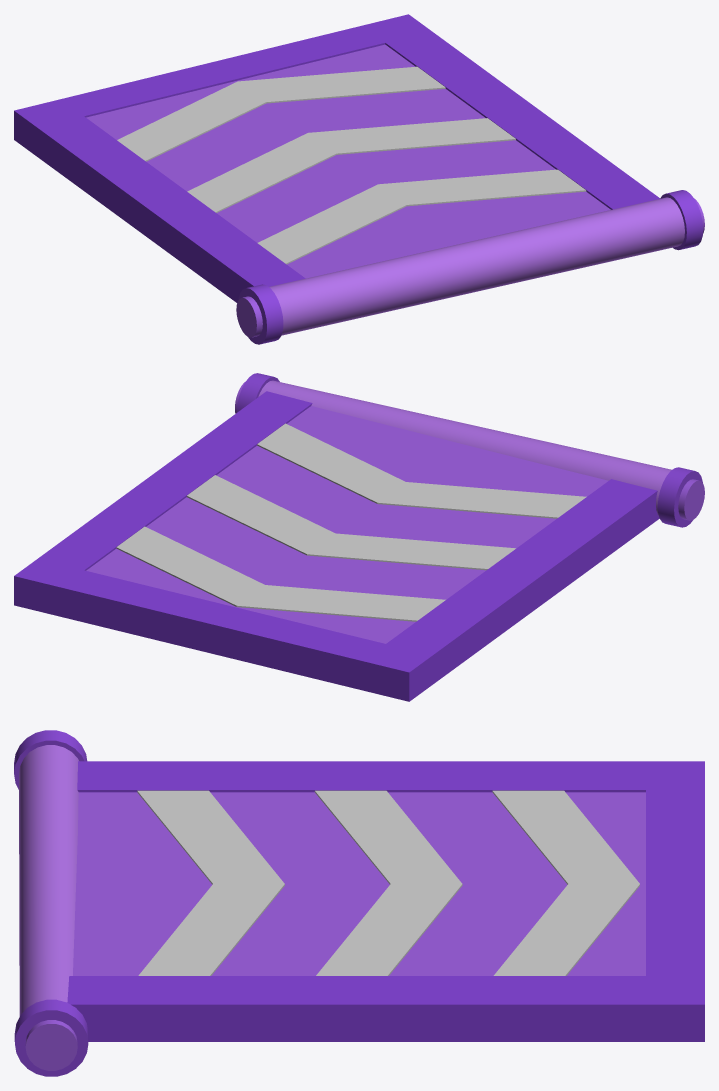
The model's file is Mobile_Ground2.fbx.
3 renders of one model, top to bottom at view 1: azimuth 30°, elevation 25°; view 2: azimuth 150°, elevation 25°; view 3: azimuth 270°, elevation 25°, orthographic. The views are drawn at different scales.
Parts seen in each view (by area): view 1: Cylinder.016; view 2: Cylinder.016; view 3: Cylinder.016.
Boxes of the visible parts, x1,y1,x2,y2 form: Cylinder.016: (14, 14, 704, 344); Cylinder.016: (14, 373, 704, 701); Cylinder.016: (14, 730, 704, 1076).
Bounding box in the file's own units: 4.08 × 4.3 × 0.5277.
